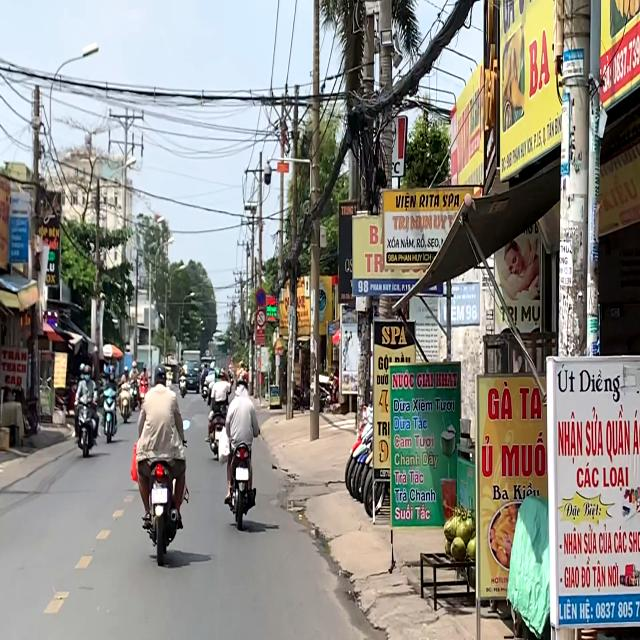P.131a: (256, 288, 266, 306)
